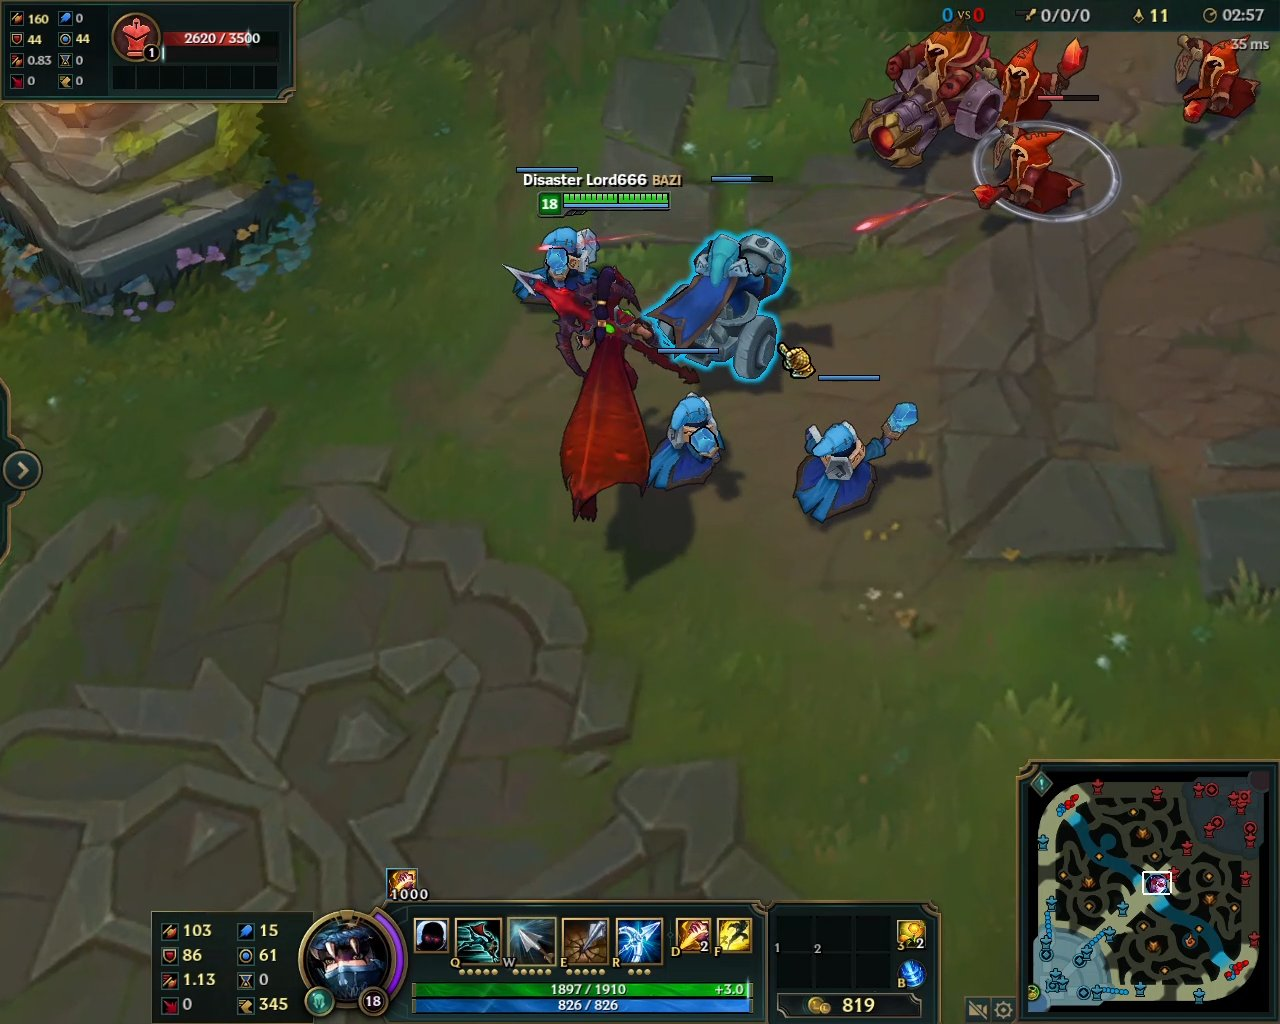EnemyMinion: (969, 93, 1111, 222)
Vayne: (506, 247, 699, 536)
